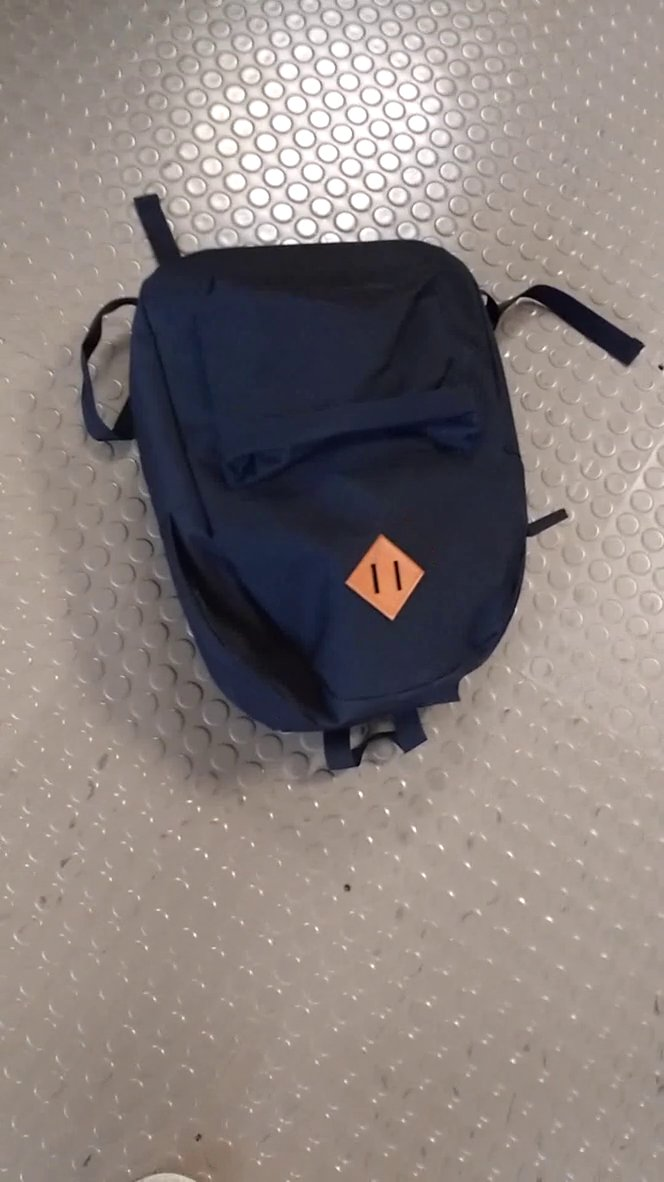bag: (74, 186, 653, 776)
